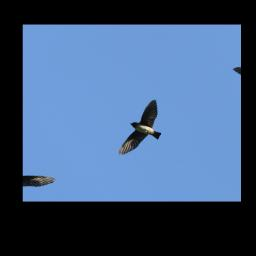Swallow: (97, 100, 181, 157)
